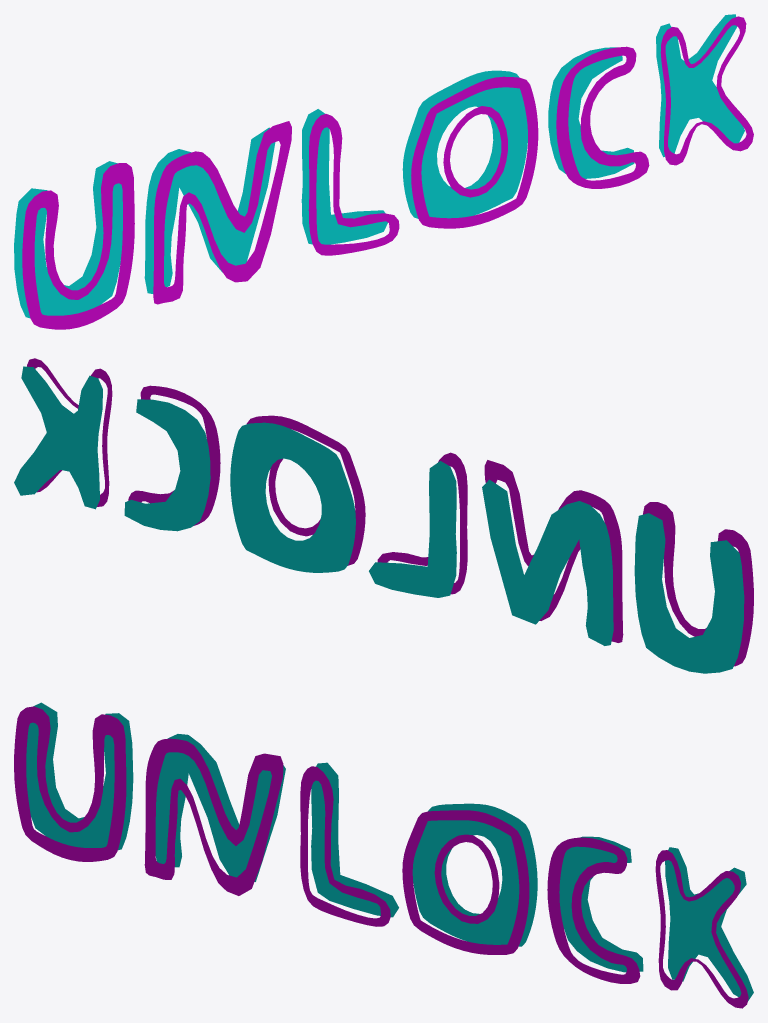
File: mesh_text_unlock.fbx
3 views of the same model, one above another, from view 1: azimuth 30°, elevation 25°; view 2: azimuth 150°, elevation 25°; view 3: azimuth 330°, elevation 25° (orthographic).
Parts seen in each view (by area): view 1: mesh_text_unlock, mesh_text_unlock1; view 2: mesh_text_unlock, mesh_text_unlock1; view 3: mesh_text_unlock, mesh_text_unlock1.
Boxes of the visible parts, x1,y1,x2,y2 form: mesh_text_unlock: (14, 14, 744, 318); mesh_text_unlock1: (22, 16, 753, 329); mesh_text_unlock: (14, 366, 744, 673); mesh_text_unlock1: (27, 358, 753, 666); mesh_text_unlock: (26, 702, 753, 1000); mesh_text_unlock1: (14, 706, 748, 1008).
Bounding box in the file's own units: 0.0998 × 0.0202 × 0.00212.
